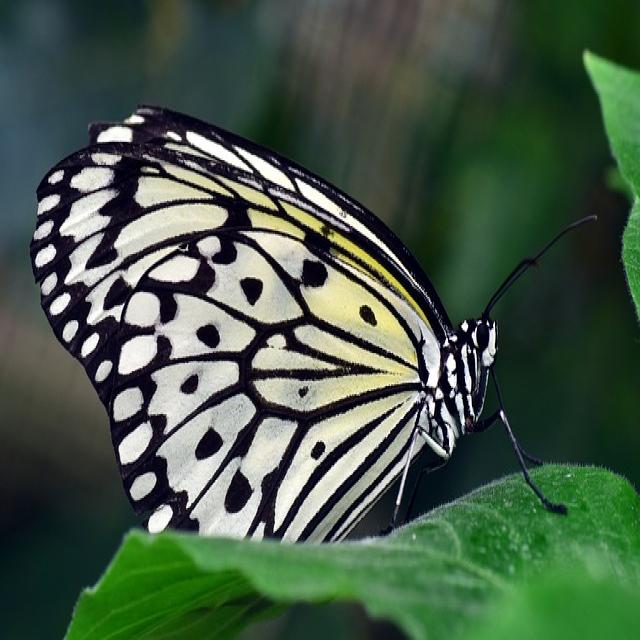butterfly: (29, 106, 502, 548)
